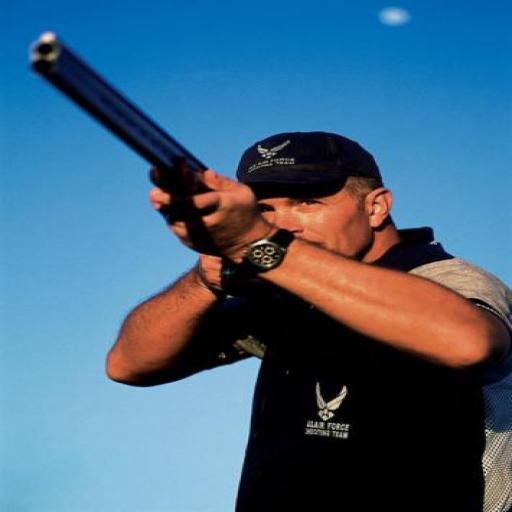shooting: (102, 129, 510, 511)
